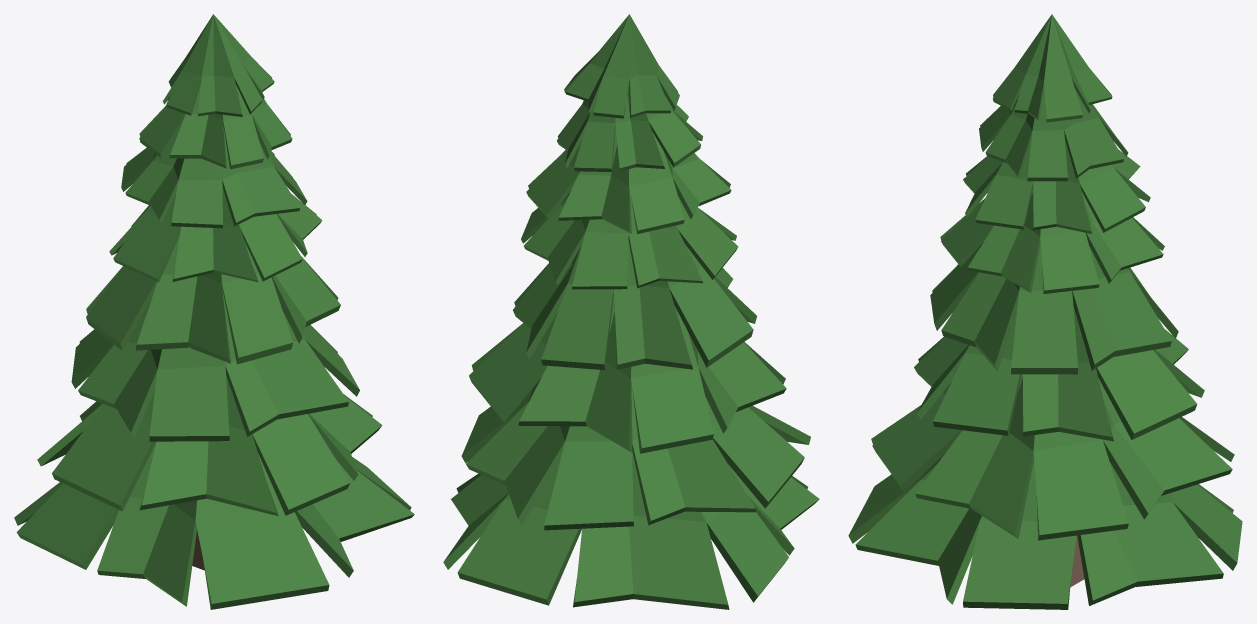
The model's file is pino2.fbx.
The picture shows the model from 3 angles, left to right: view 1: azimuth 30°, elevation 25°; view 2: azimuth 150°, elevation 25°; view 3: azimuth 270°, elevation 25°; orthographic projection. The views are drawn at different scales.
Parts seen in each view (by area): view 1: pino_2:Mesh; view 2: pino_2:Mesh; view 3: pino_2:Mesh.
Part boxes in pixels (box(x1,y1,x2,y2)): pino_2:Mesh: box(14, 14, 414, 609); pino_2:Mesh: box(443, 14, 819, 609); pino_2:Mesh: box(848, 14, 1242, 609).
Size of the model in its own units: 7.09 by 11.42 by 7.33.
1 material, 1 textured.
